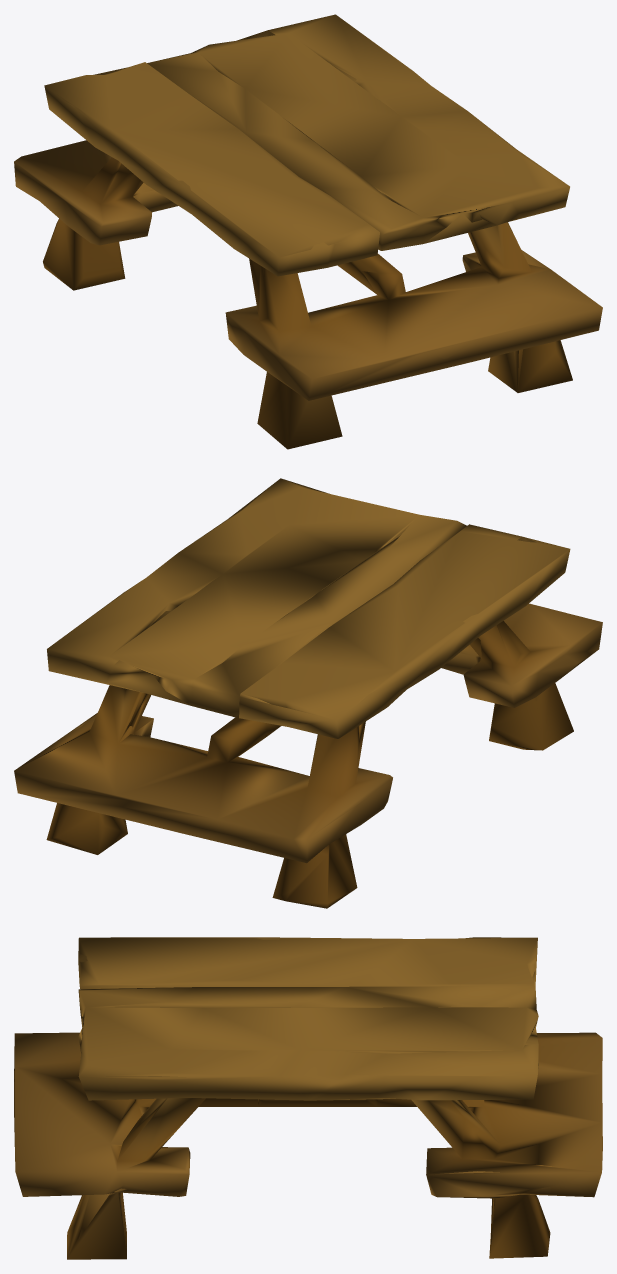
Rendered from gen3d-picnic-table-lod1.glb.
The picture shows the model from 3 angles, top to bottom: view 1: azimuth 30°, elevation 25°; view 2: azimuth 150°, elevation 25°; view 3: azimuth 270°, elevation 25°; orthographic projection. The views are drawn at different scales.
Parts seen in each view (by area): view 1: part_0; view 2: part_0; view 3: part_0.
Boxes of the visible parts, box(x1,y1,x2,y2) form: part_0: box(14, 14, 602, 449); part_0: box(14, 478, 602, 908); part_0: box(14, 937, 602, 1259).
Bounding box in the file's own units: 1.61 × 0.9998 × 2.87.
